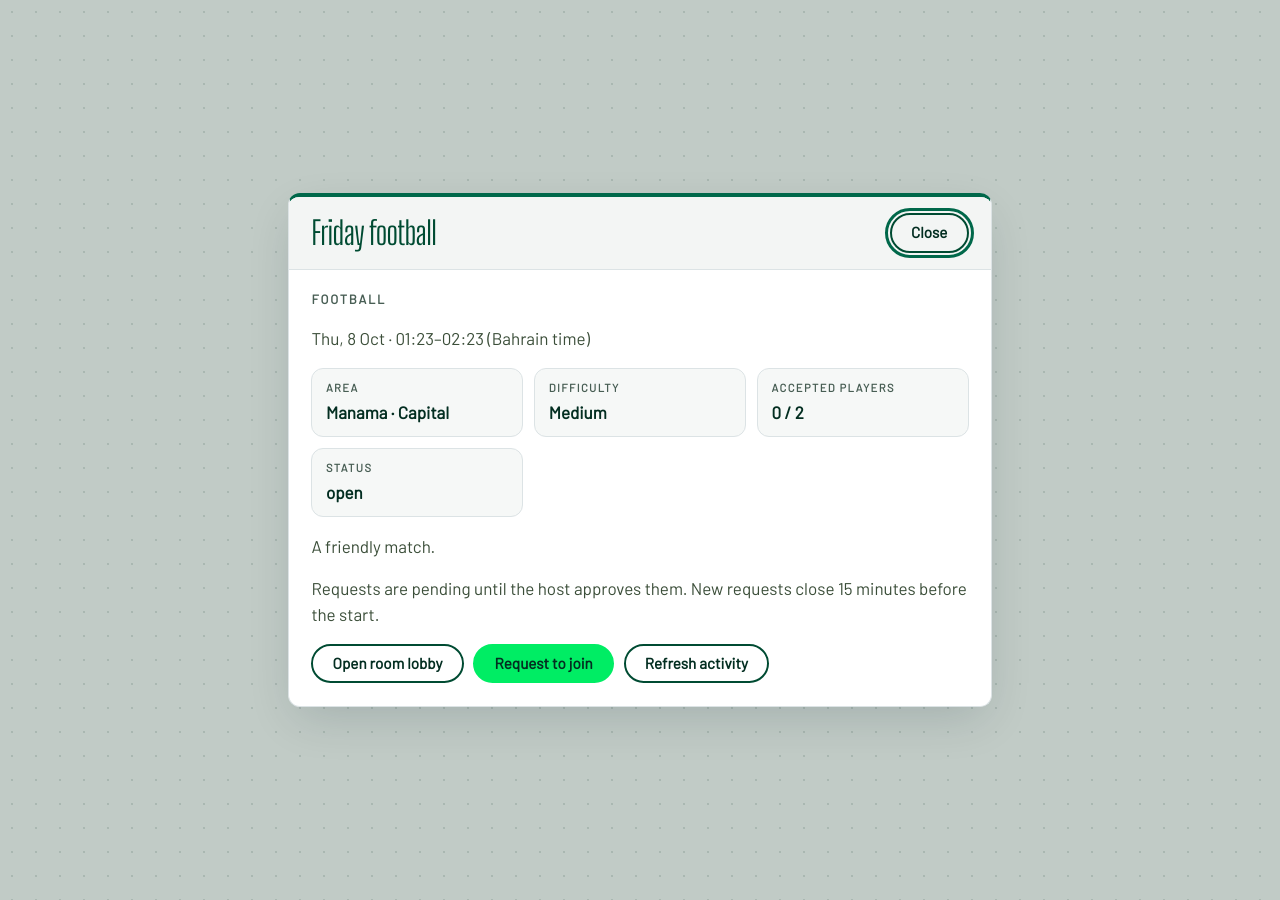
Test: fresh membership decisions › refuses a stale request when other players filled the last places
Click the button "Request to join".
click(544, 664)  # box [473,644,614,684]
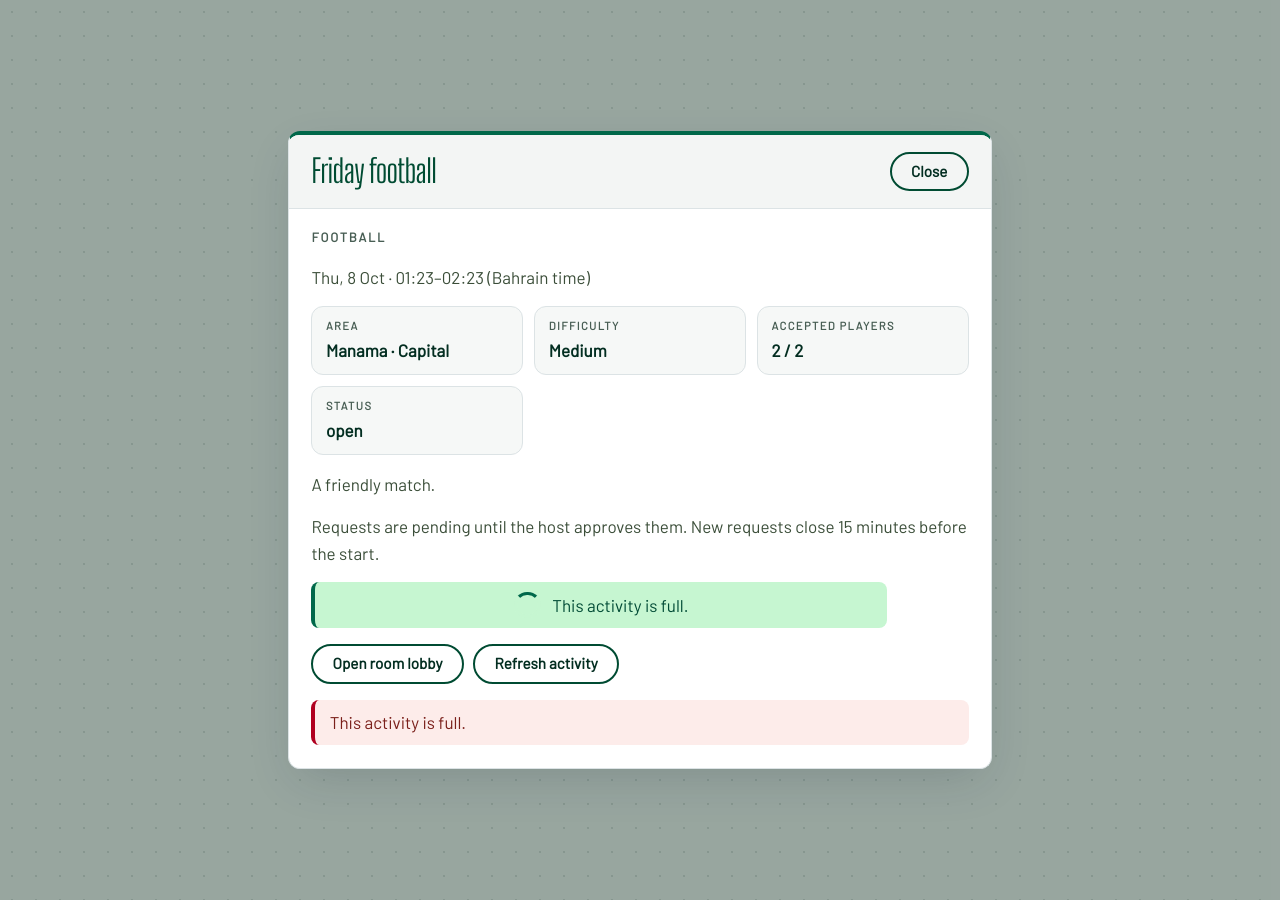
Result: the 2nd message "This activity is full." is shown at [311,700,969,745]
Result: the text "2 / 2" is shown at [772,340,803,360]
